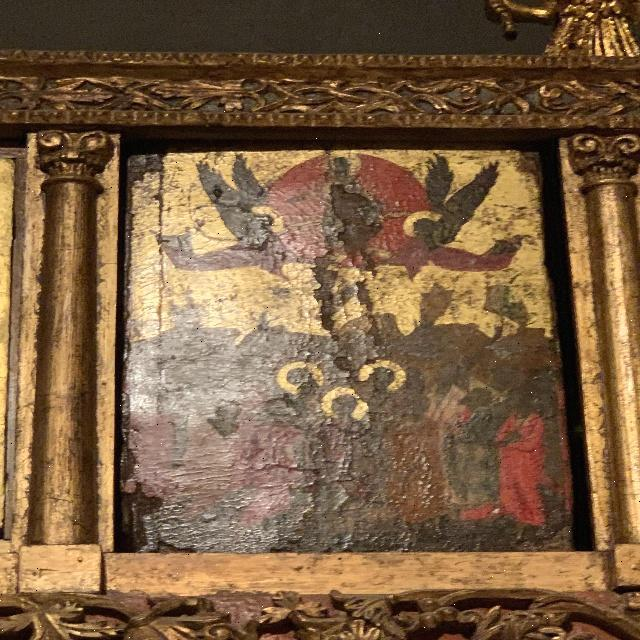angel: (158, 161, 294, 283), (404, 162, 521, 283)
aura: (359, 358, 410, 394), (324, 392, 371, 426), (321, 151, 363, 183), (285, 363, 320, 397), (243, 208, 279, 239), (404, 210, 439, 239)
wing: (432, 172, 506, 237), (208, 160, 258, 243)
